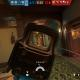Character: (36, 40, 40, 46)
Friend_label: (50, 46, 56, 50)
Head: (36, 40, 37, 40)
